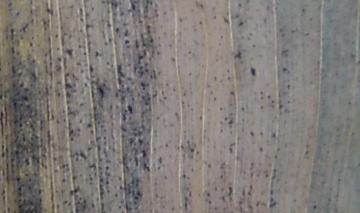tarspot: (280, 48, 291, 59), (94, 86, 104, 98), (114, 62, 124, 74), (139, 32, 147, 47), (268, 196, 277, 209), (1, 111, 5, 140), (8, 27, 16, 41), (221, 15, 231, 26), (141, 161, 151, 172), (44, 6, 55, 16), (78, 150, 88, 161), (63, 48, 75, 57), (84, 22, 94, 32), (249, 66, 257, 78), (119, 112, 128, 122), (126, 104, 134, 115), (129, 1, 137, 12), (226, 184, 233, 196), (233, 12, 242, 21), (233, 51, 243, 59), (87, 162, 97, 170), (156, 155, 164, 165), (63, 72, 71, 82), (140, 81, 147, 92), (136, 54, 143, 65), (10, 64, 17, 75), (257, 145, 265, 154), (64, 82, 73, 90), (117, 10, 125, 19), (140, 148, 147, 158), (88, 62, 94, 73), (226, 117, 234, 125), (285, 82, 292, 91), (65, 90, 72, 99), (198, 2, 205, 11), (227, 146, 234, 155), (145, 24, 151, 34), (280, 66, 288, 73), (228, 90, 236, 97), (237, 20, 244, 28), (113, 26, 120, 34), (136, 138, 143, 146), (6, 1, 14, 8), (186, 48, 193, 56), (18, 80, 25, 88), (116, 76, 122, 85), (206, 198, 212, 207), (24, 157, 30, 166), (180, 172, 186, 181), (68, 128, 74, 137), (123, 28, 129, 37), (12, 101, 17, 111), (134, 39, 139, 49), (144, 1, 149, 11), (123, 38, 130, 45), (22, 94, 29, 101), (86, 122, 93, 129), (248, 130, 255, 137), (135, 190, 142, 197), (148, 36, 155, 43), (250, 43, 257, 50), (23, 86, 30, 93), (93, 50, 99, 58), (271, 130, 277, 138), (278, 103, 284, 111), (189, 146, 195, 154), (69, 136, 75, 144), (300, 6, 306, 14), (211, 14, 217, 22), (78, 16, 84, 24), (10, 46, 15, 55), (60, 177, 67, 183), (14, 176, 21, 182), (30, 57, 36, 64), (205, 190, 211, 197), (133, 195, 140, 201), (258, 95, 265, 101), (258, 104, 264, 111), (105, 22, 112, 28), (25, 103, 31, 110), (14, 149, 20, 156), (248, 161, 255, 167), (177, 16, 183, 23), (136, 19, 144, 24), (142, 48, 146, 58), (1, 142, 6, 150), (56, 90, 61, 98), (218, 106, 224, 112), (312, 204, 318, 210), (104, 165, 110, 171), (143, 100, 149, 106), (265, 93, 271, 99), (239, 106, 245, 112), (197, 19, 203, 25), (223, 115, 228, 122), (170, 56, 175, 63), (28, 41, 33, 48), (258, 90, 265, 95), (17, 123, 24, 128), (37, 188, 42, 195), (237, 2, 242, 9), (273, 153, 278, 160), (1, 150, 5, 158), (73, 188, 78, 194), (17, 185, 22, 191), (270, 99, 275, 105), (218, 33, 224, 38), (1, 93, 4, 102), (149, 1, 153, 7)
